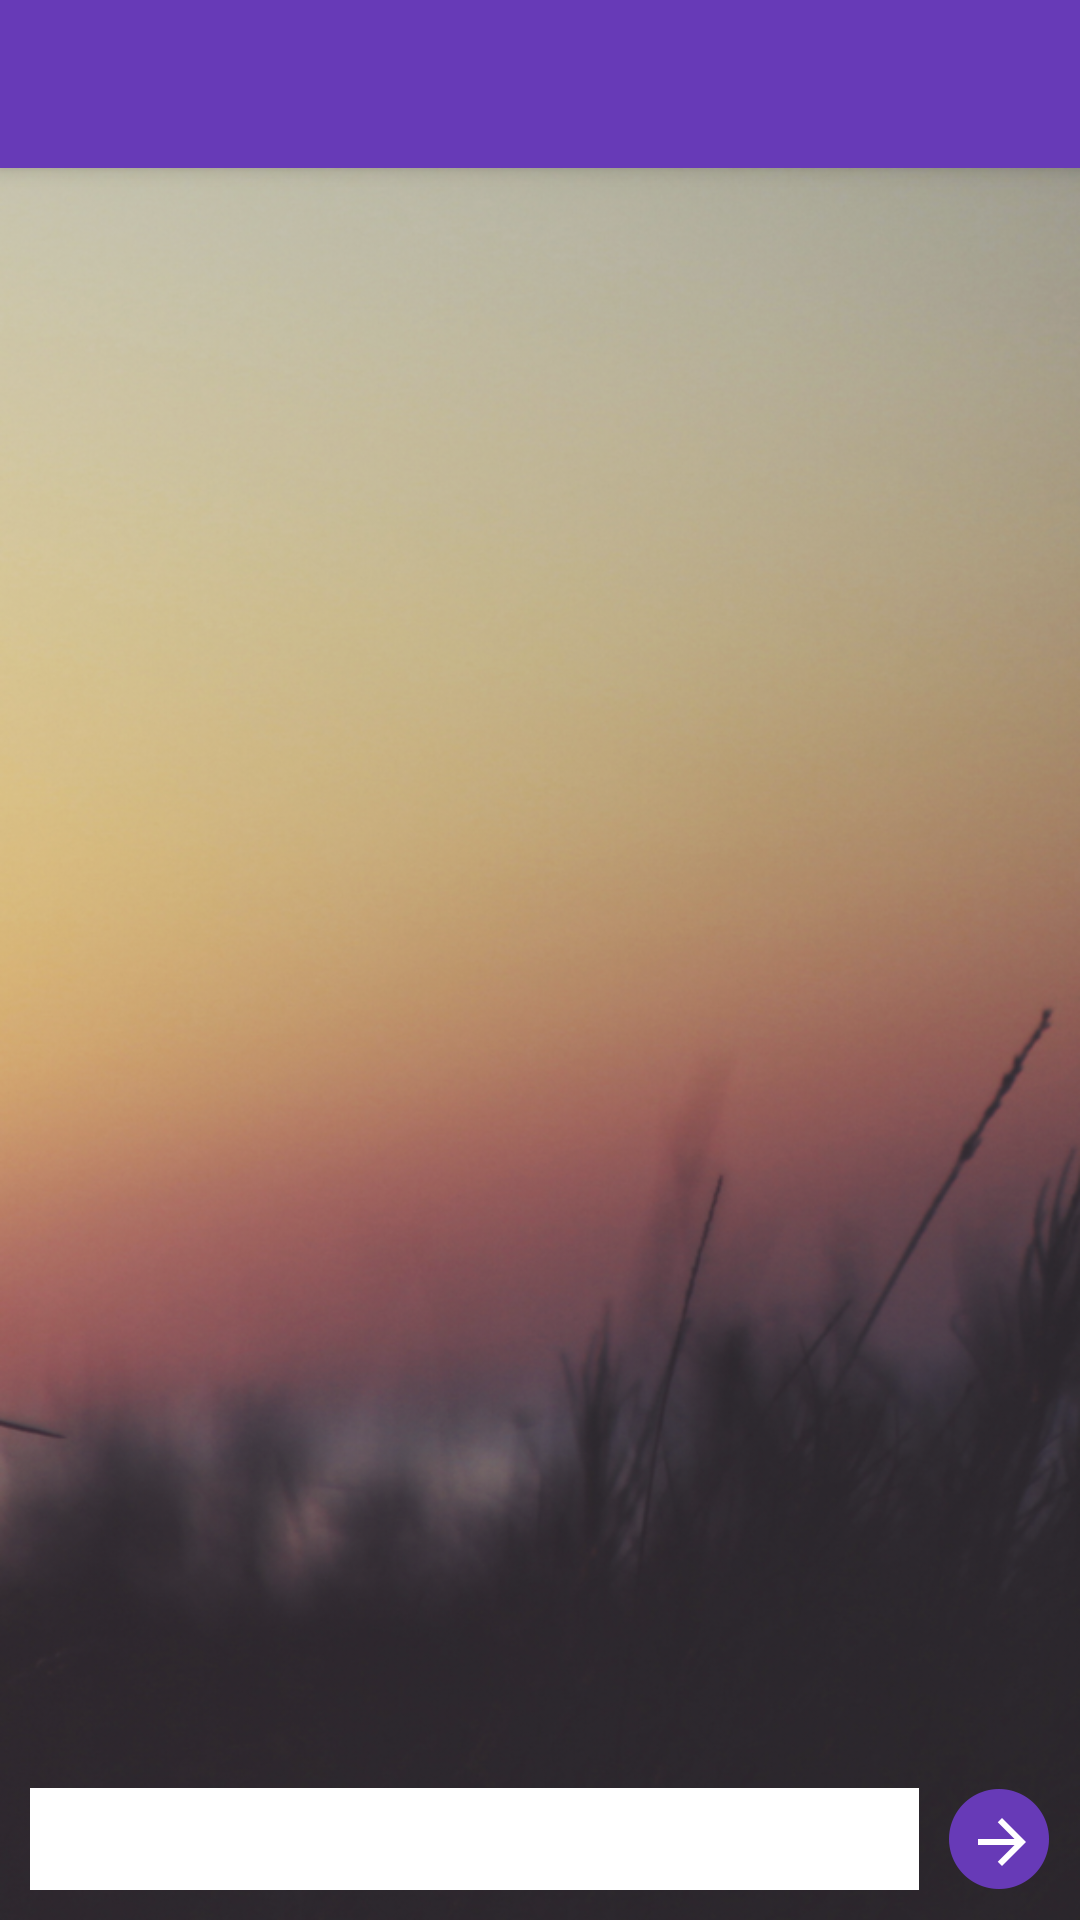

Icons on this 1080w x 1920h Android screen, each with the point to tap as [x,y]:
sendchatbutton: [999,1839]
